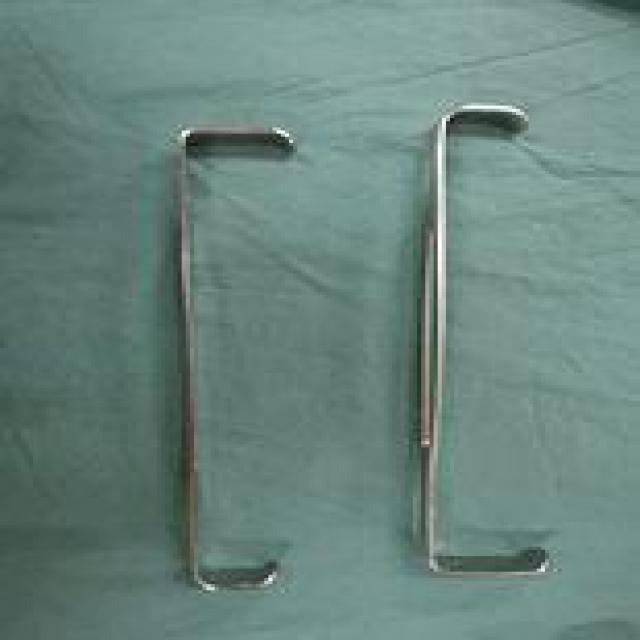Army_navy: (408, 96, 558, 581), (166, 115, 302, 600)
